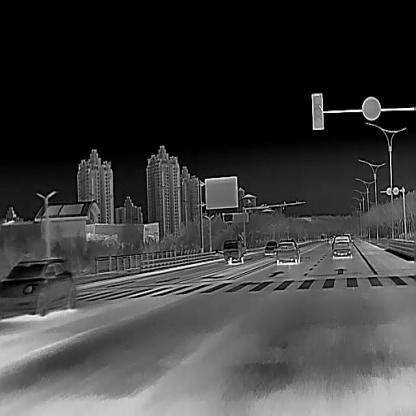car: (0, 256, 77, 318), (222, 233, 246, 262), (276, 238, 300, 264), (332, 233, 352, 258), (263, 240, 278, 255)
